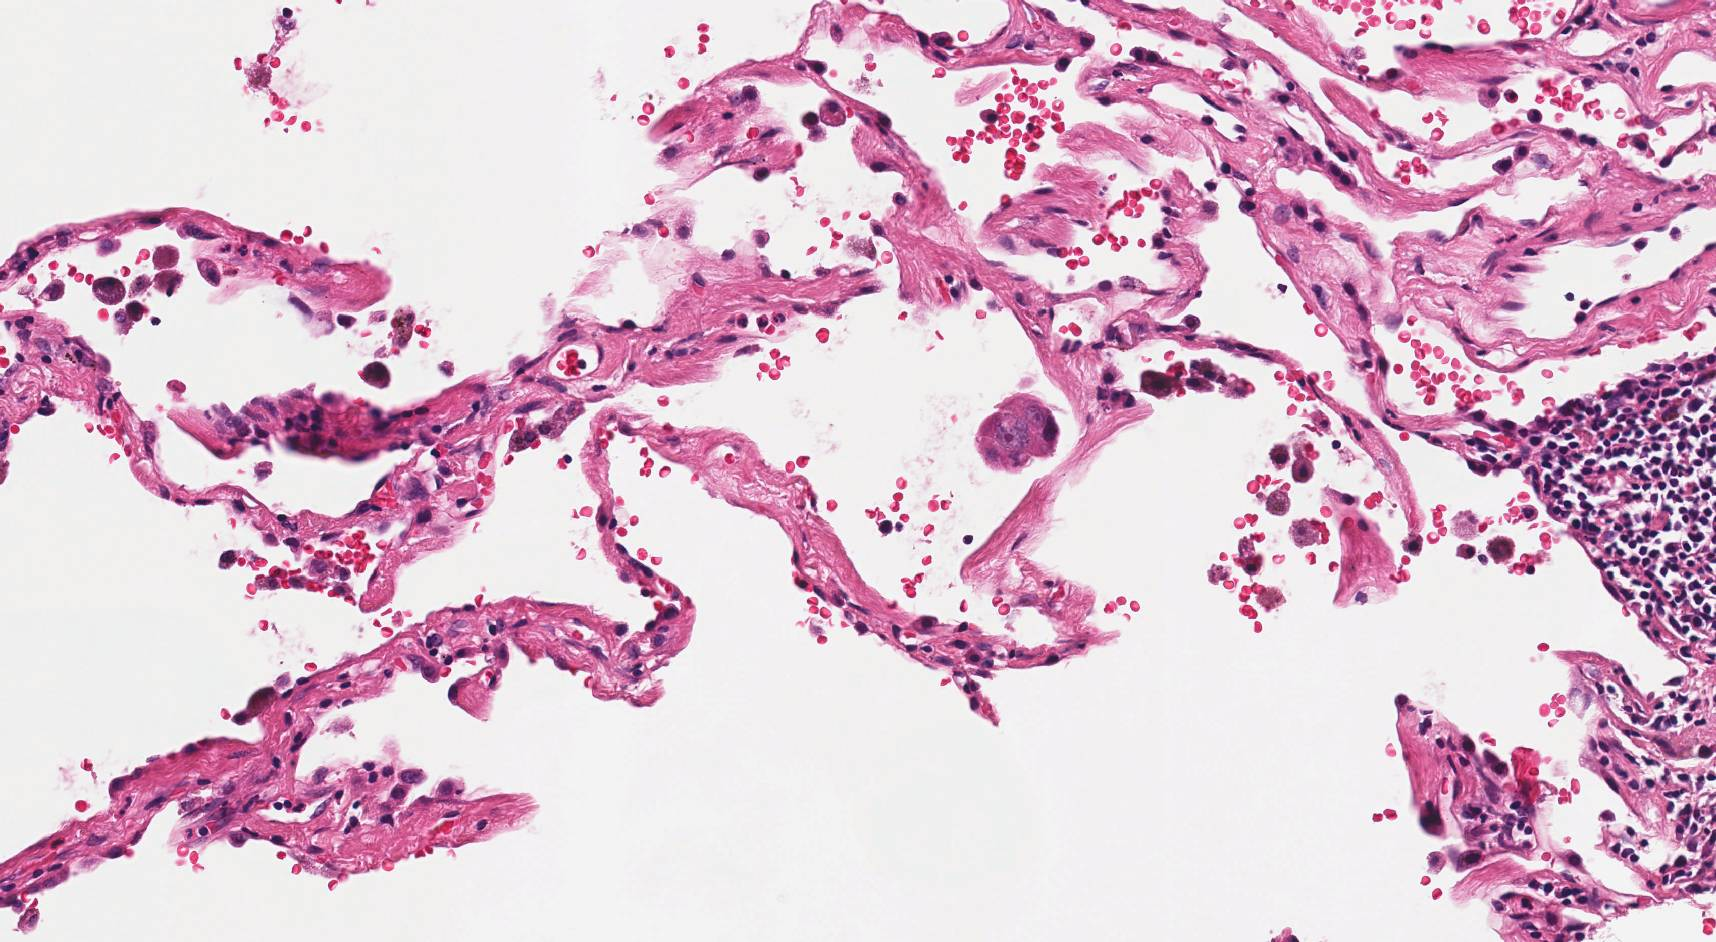stas: (975, 393, 1063, 470)
